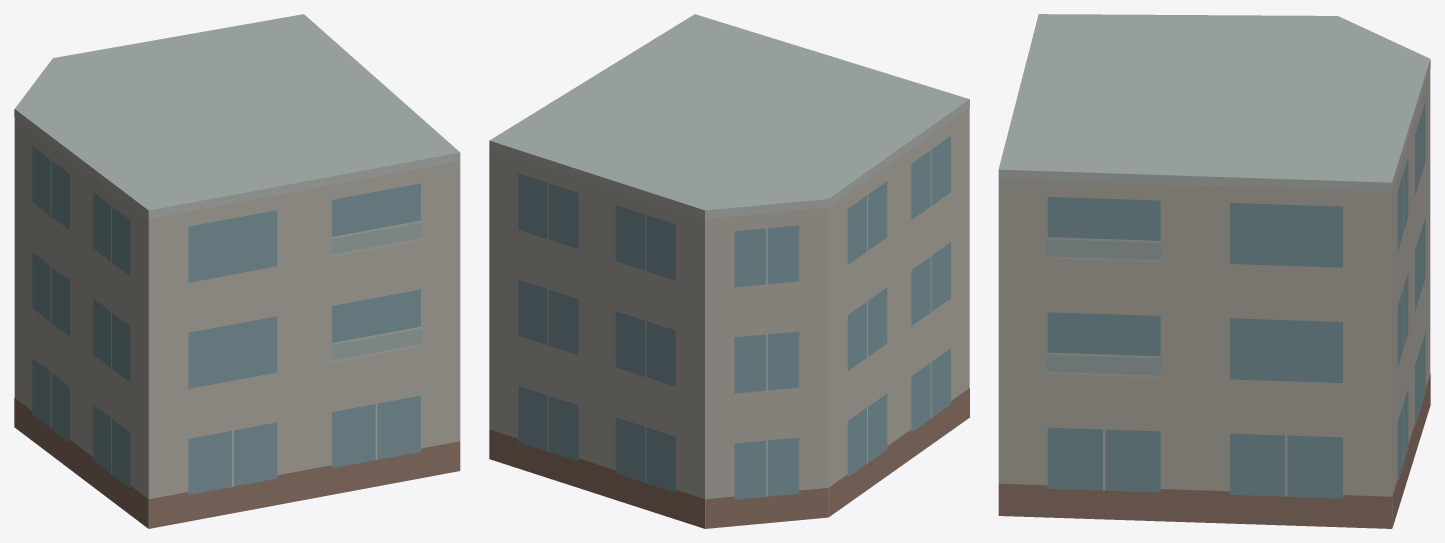
File: survey-upis-32935973.glb
3 renders of one model, left to right at view 1: azimuth 30°, elevation 25°; view 2: azimuth 150°, elevation 25°; view 3: azimuth 270°, elevation 25°, orthographic. The views are drawn at different scales.
Visible parts, largest first — view 1: survey-upis-32935973.tmp; view 2: survey-upis-32935973.tmp; view 3: survey-upis-32935973.tmp.
Boxes of the visible parts, x1,y1,x2,y2 form: survey-upis-32935973.tmp: (14, 14, 460, 528); survey-upis-32935973.tmp: (489, 14, 969, 528); survey-upis-32935973.tmp: (998, 14, 1430, 528).
Bounding box in the file's own units: 9.57 × 9.15 × 10.36.
